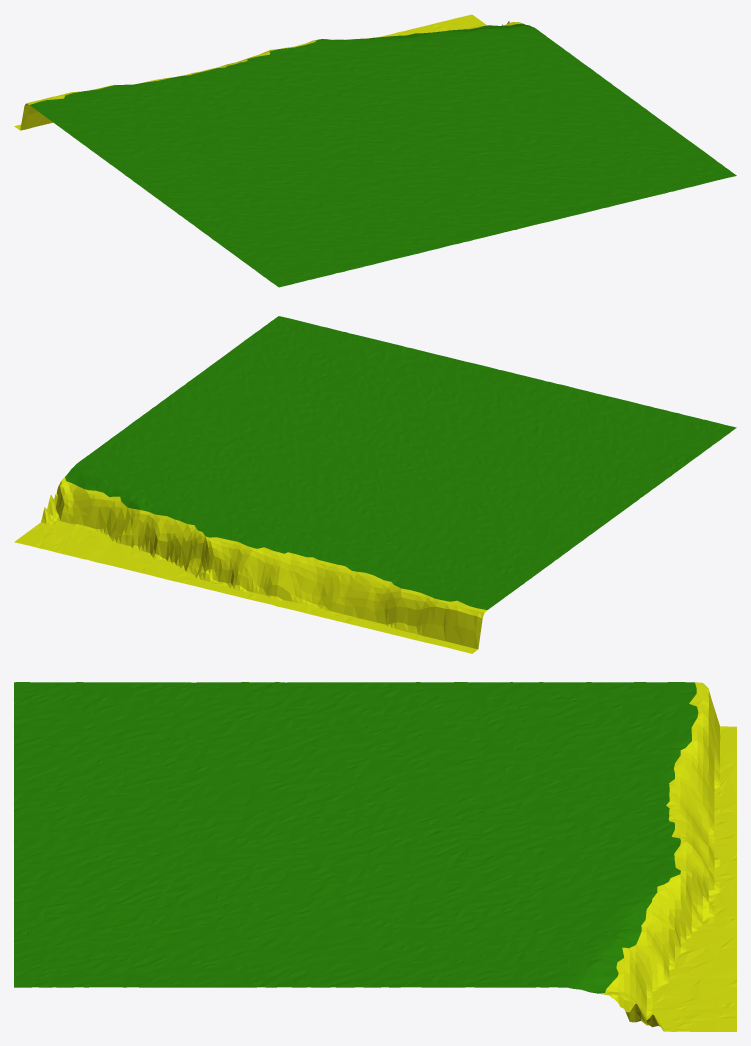
The picture shows the model from 3 angles, top to bottom: view 1: azimuth 30°, elevation 25°; view 2: azimuth 150°, elevation 25°; view 3: azimuth 270°, elevation 25°; orthographic projection. The views are drawn at different scales.
Visible parts, largest first — view 1: TerrainVeryHigh.011; view 2: TerrainVeryHigh.011; view 3: TerrainVeryHigh.011.
Boxes of the visible parts, box(x1,y1,x2,y2) form: TerrainVeryHigh.011: box(14, 14, 736, 287); TerrainVeryHigh.011: box(14, 316, 736, 653); TerrainVeryHigh.011: box(14, 682, 736, 1031).
Size of the model in its own units: 1251 by 1252 by 86.39.
